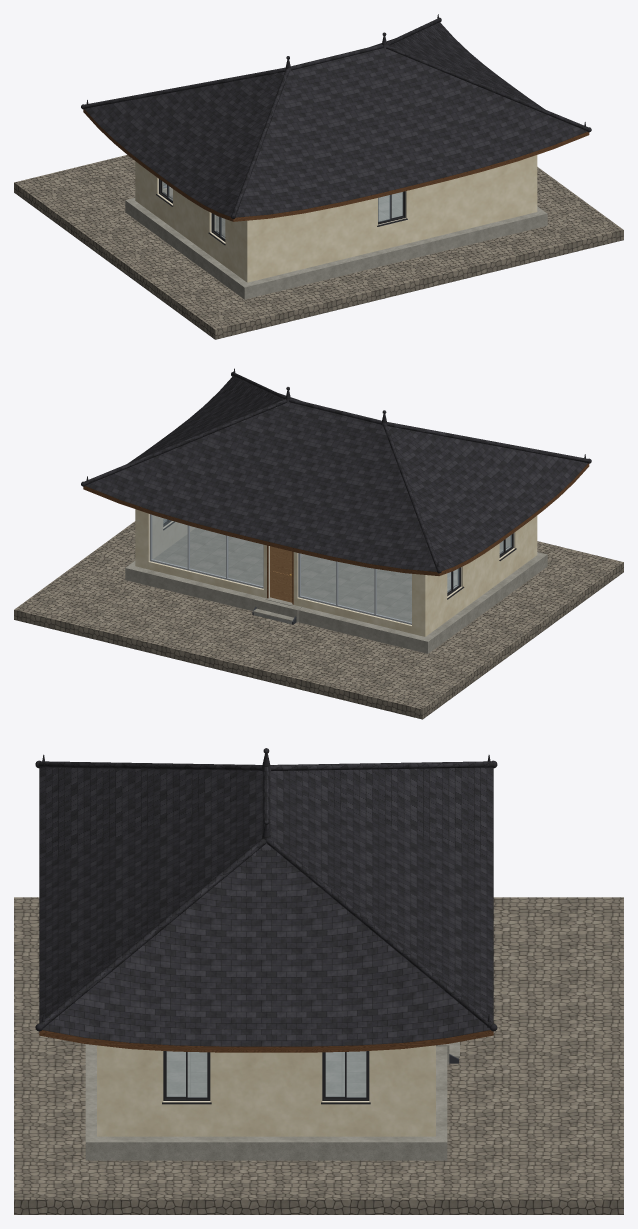
File: b_hanok_cafe.gltf
The picture shows the model from 3 angles, top to bottom: view 1: azimuth 30°, elevation 25°; view 2: azimuth 150°, elevation 25°; view 3: azimuth 270°, elevation 25°; orthographic projection. The views are drawn at different scales.
Parts seen in each view (by area): view 1: S_hanok_cafe; view 2: S_hanok_cafe, D_hanok_cafe_F1_S2_Door0; view 3: S_hanok_cafe.
Part boxes in pixels (left/top/right/bottom): S_hanok_cafe: left=14, top=14, right=623, bottom=339; S_hanok_cafe: left=14, top=368, right=623, bottom=719; D_hanok_cafe_F1_S2_Door0: left=270, top=546, right=292, bottom=602; S_hanok_cafe: left=14, top=748, right=623, bottom=1214.
Bounding box in the file's own units: 17 × 7.34 × 14.5.
Materials: 18 (10 with a texture image).
